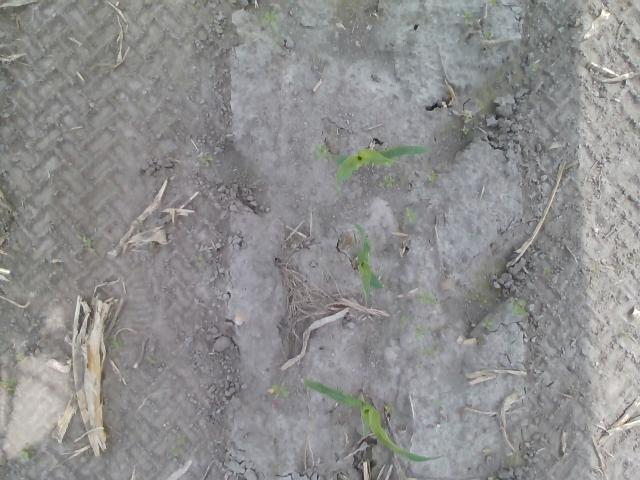Maize: (300, 376, 444, 464), (332, 147, 432, 197), (353, 223, 385, 303)
Weeds: (312, 142, 332, 162), (510, 296, 530, 316), (272, 380, 290, 398), (401, 206, 419, 223), (76, 234, 95, 250), (260, 10, 278, 26), (19, 443, 35, 460), (376, 156, 398, 167), (418, 292, 438, 304), (0, 377, 16, 392), (394, 314, 408, 330), (108, 336, 125, 349), (414, 325, 428, 340), (198, 154, 213, 166), (462, 10, 474, 25), (379, 176, 396, 186), (481, 317, 494, 330), (421, 346, 436, 356), (426, 170, 438, 181), (383, 402, 395, 412), (14, 350, 26, 360), (476, 98, 486, 109), (530, 61, 539, 72), (464, 110, 472, 122), (177, 434, 186, 444), (170, 445, 178, 456), (194, 256, 204, 264), (462, 125, 470, 134), (486, 29, 494, 38), (542, 267, 552, 274), (146, 356, 155, 363), (590, 264, 598, 271), (488, 0, 499, 5), (136, 220, 144, 226), (190, 4, 196, 12), (148, 241, 156, 246), (478, 339, 483, 346)
